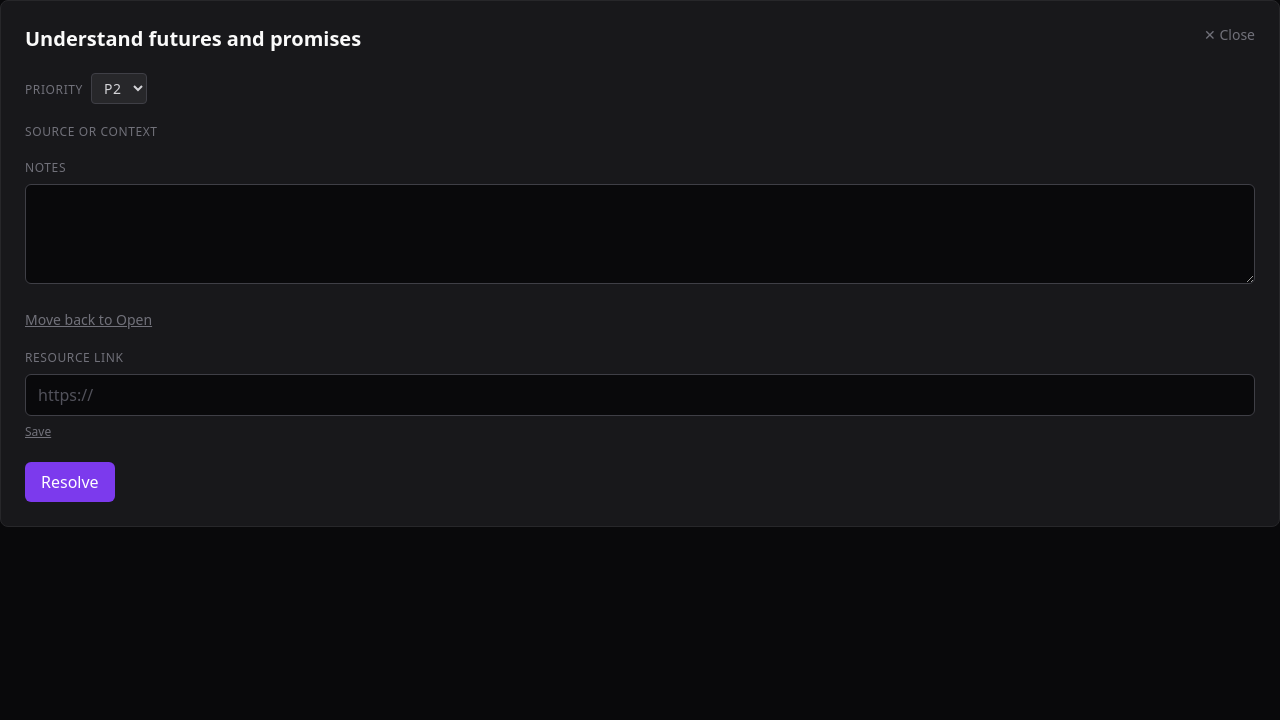
Test: US-013 + US-015: ItemDetail — resolve flow › activating Resolve reveals a resolution textarea
This screenshot has width=1280, height=720.
What coordinates should you click on to do the following:
click the button "Resolve"
I would click on:
 (70, 482)
Its box is [25,462,115,502].
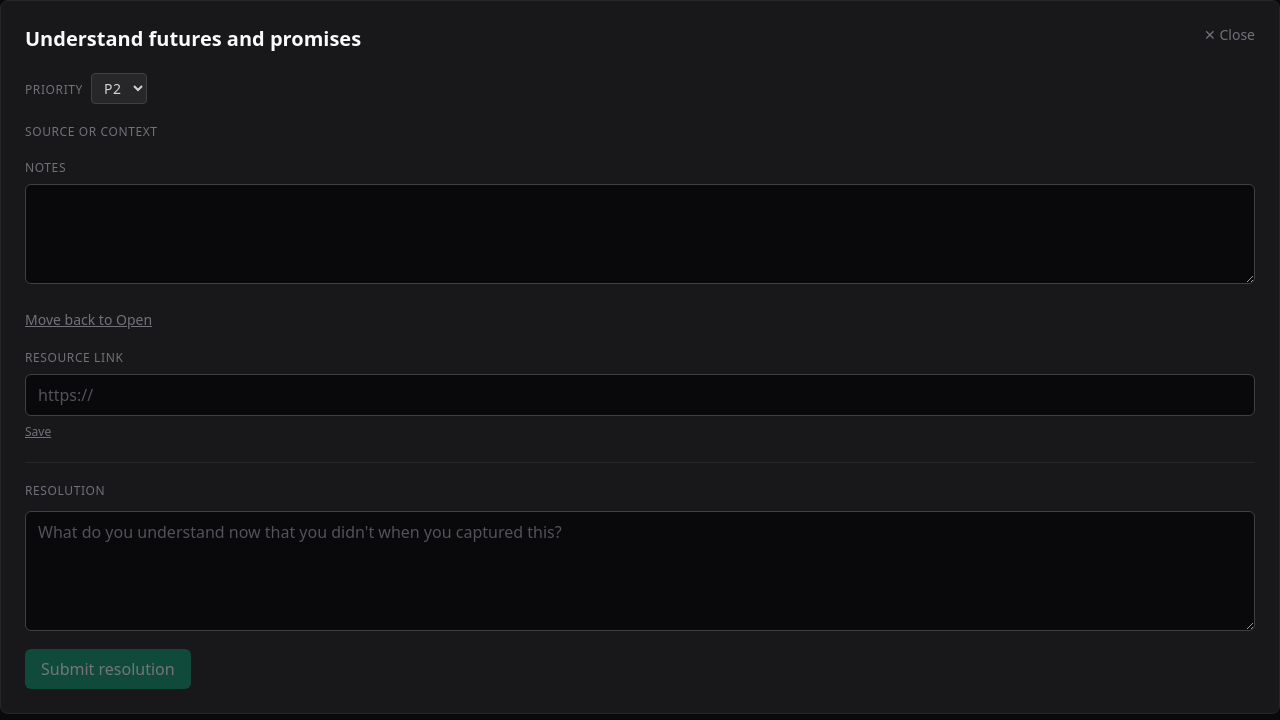
Expected: the text box labelled "Resolution" is shown, [25,511,1255,631]
